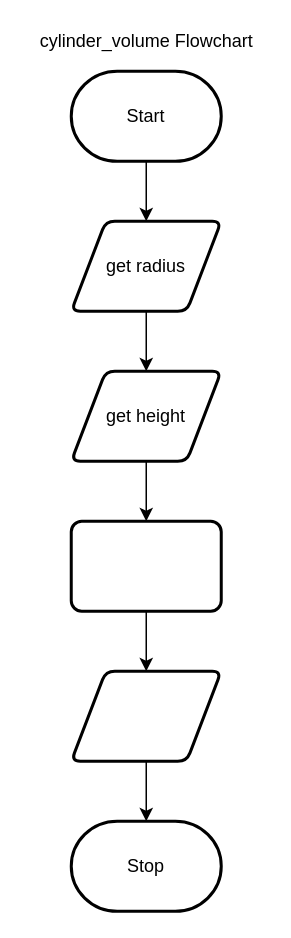
Some shapes in this 291 by 938 pixel diagram are drawn without their labels. The box of each missing label's shape, as (x1, y1, x2, y2) in pixels:
return volume: (69, 669, 222, 762)
volume = math.pi * radius**2 * height: (69, 519, 222, 612)
